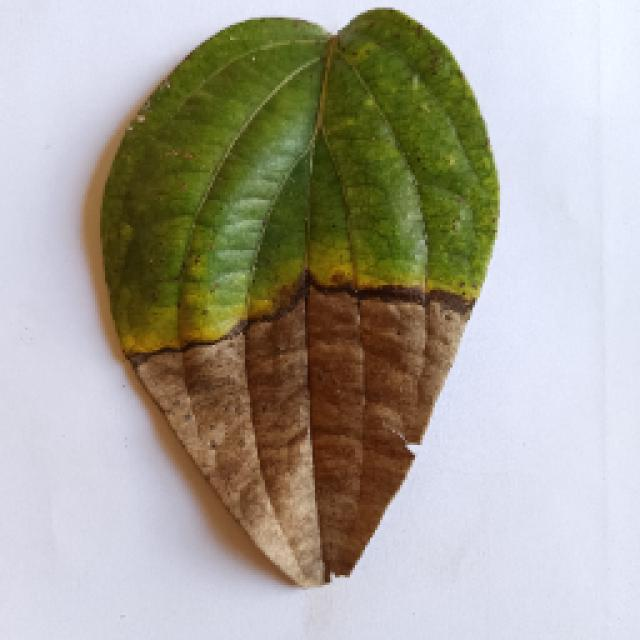footrot: (65, 17, 543, 595)
